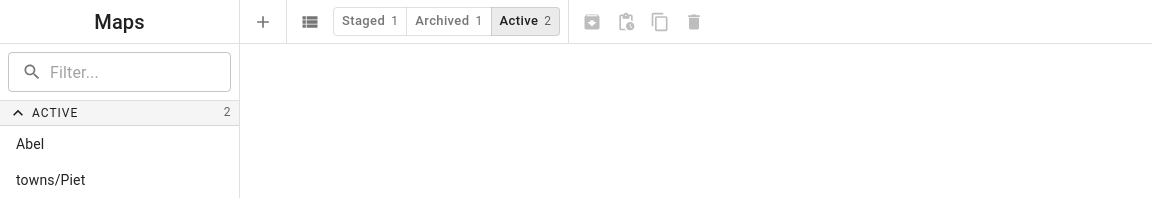
Test: EditorFileListPanel — the sets › collapses a set from its header
This screenshot has width=1152, height=215.
Step 1. Click the button with test id "list-section-active" → click(120, 114), box [0,101,239,126]
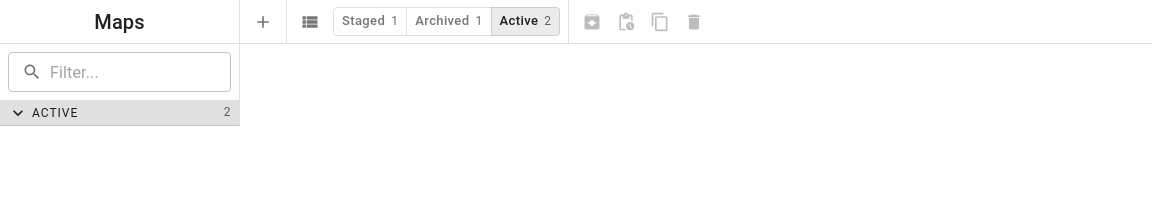
Expected: the button "Abel" is gone
Expected: the button with test id "list-section-active" is collapsed, [0,101,239,126]
